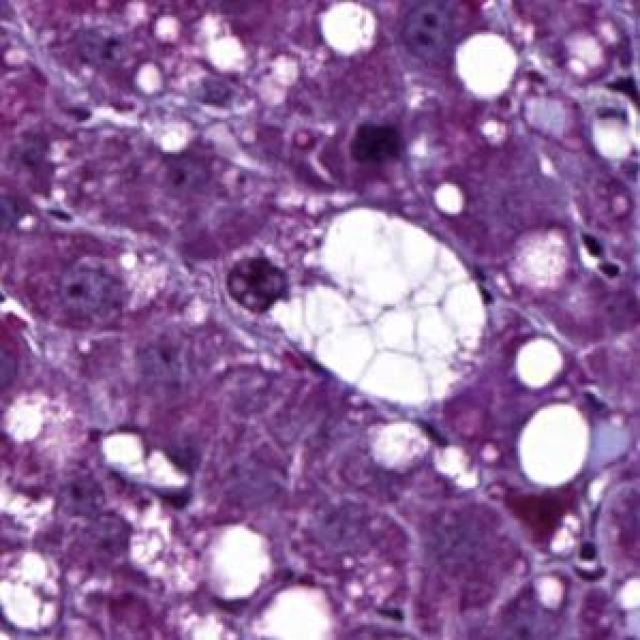ballooning: (266, 199, 492, 415)
